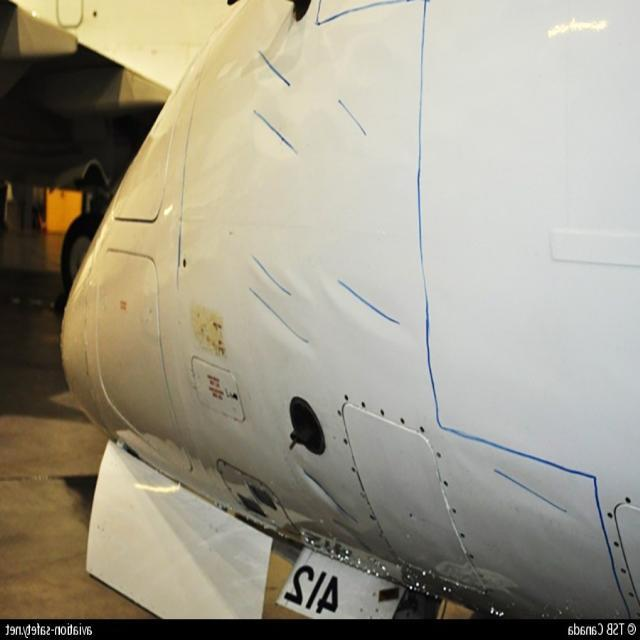dent: (237, 109, 307, 175)
